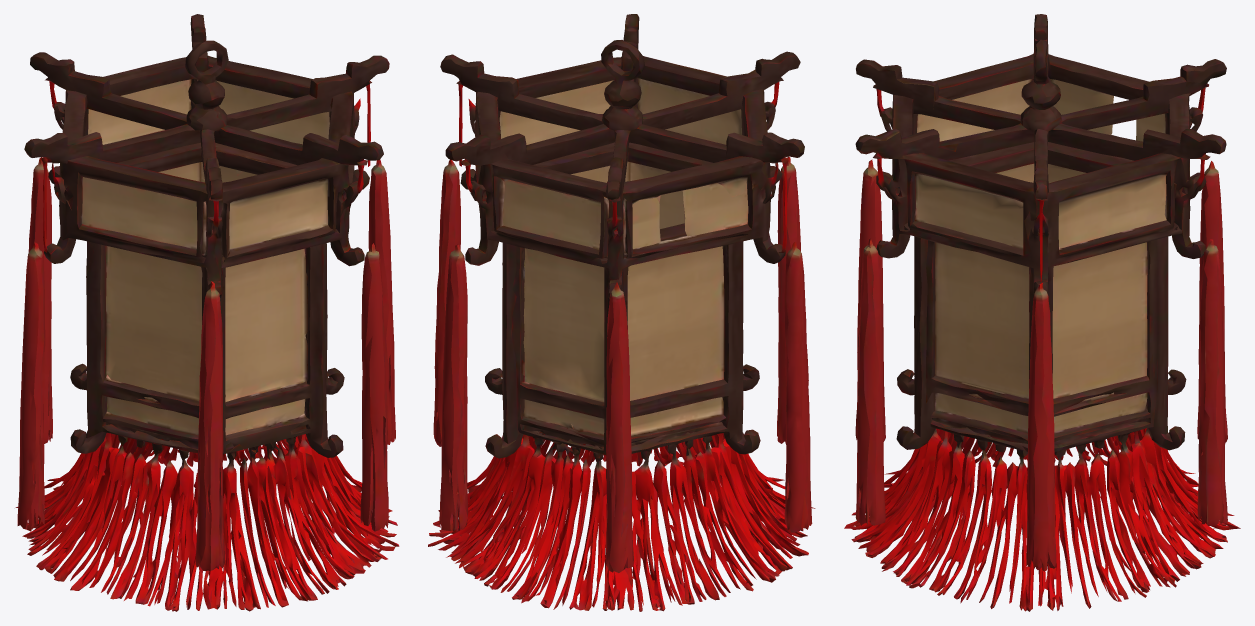
File: lantern.glb
3 renders of one model, left to right at view 1: azimuth 30°, elevation 25°; view 2: azimuth 150°, elevation 25°; view 3: azimuth 270°, elevation 25°, orthographic.
Visible parts, largest first — view 1: geometry_0; view 2: geometry_0; view 3: geometry_0.
Boxes of the visible parts, <box> form: geometry_0: <box>15,14,399,611</box>; geometry_0: <box>428,14,815,611</box>; geometry_0: <box>844,14,1240,611</box>.
Bounding box in the file's own units: 0.7076 × 0.9 × 0.6527.
Materials: 1 (1 with a texture image).
